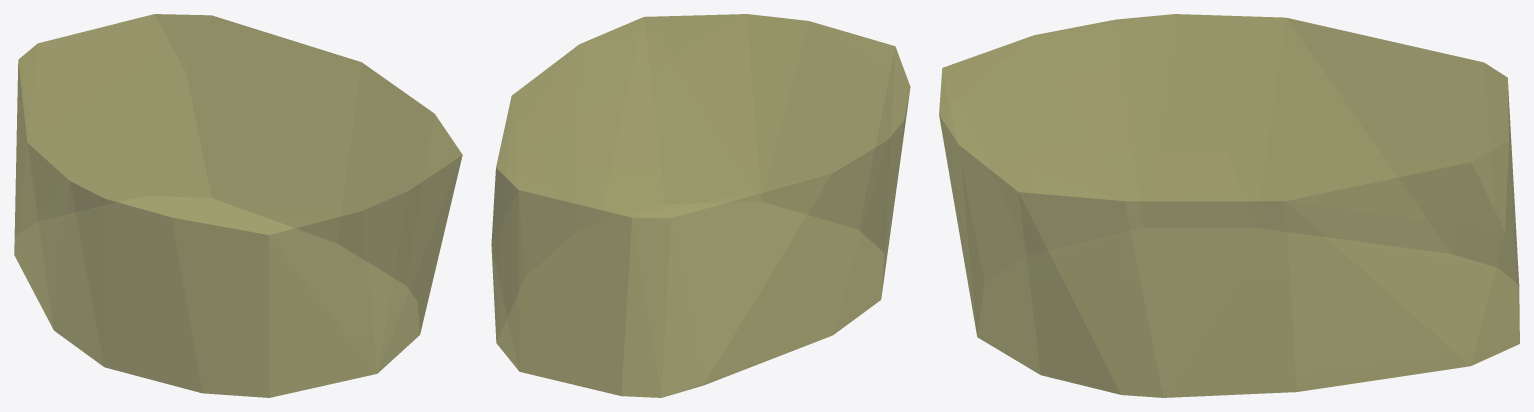
The picture shows the model from 3 angles, left to right: view 1: azimuth 30°, elevation 25°; view 2: azimuth 150°, elevation 25°; view 3: azimuth 270°, elevation 25°; orthographic projection. The views are drawn at different scales.
Parts seen in each view (by area): view 1: Shape_IndexedFaceSet.006_Shape_IndexedFaceSet.8255; view 2: Shape_IndexedFaceSet.006_Shape_IndexedFaceSet.8255; view 3: Shape_IndexedFaceSet.006_Shape_IndexedFaceSet.8255.
Boxes of the visible parts, x1=… form: Shape_IndexedFaceSet.006_Shape_IndexedFaceSet.8255: x1=14, y1=14, x2=462, y2=397; Shape_IndexedFaceSet.006_Shape_IndexedFaceSet.8255: x1=491, y1=14, x2=910, y2=397; Shape_IndexedFaceSet.006_Shape_IndexedFaceSet.8255: x1=939, y1=14, x2=1519, y2=397.
Size of the model in its own units: 0.2517 by 0.13 by 0.3302.
